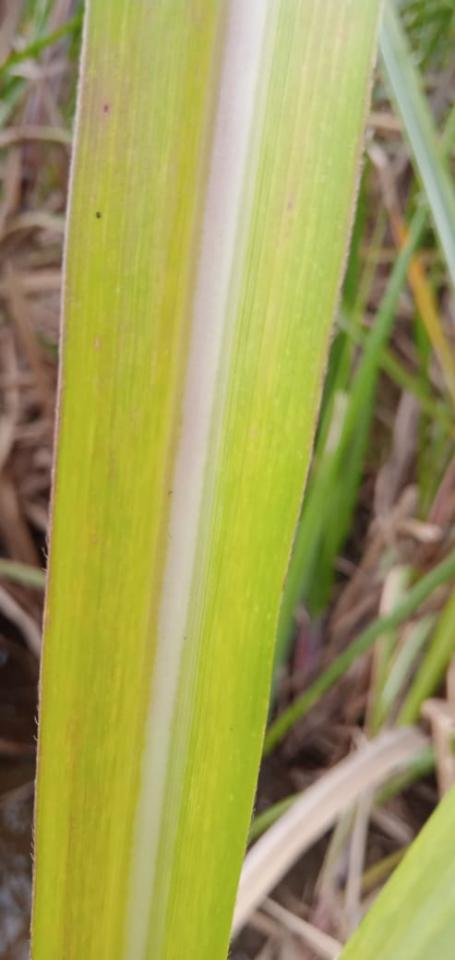Rust: (94, 209, 104, 221), (102, 104, 109, 115)
